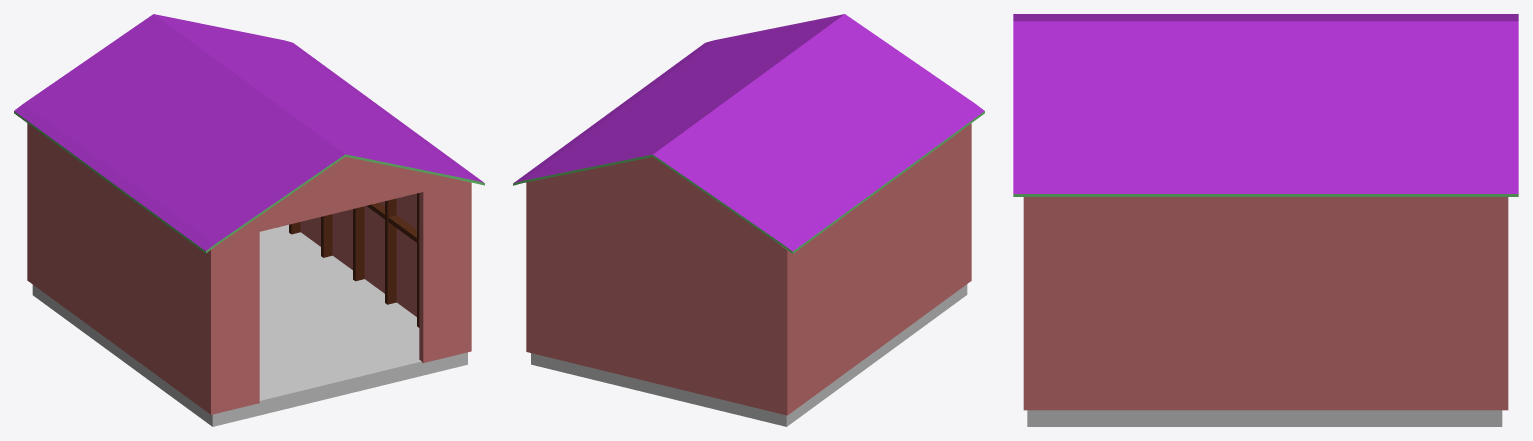
Rendered from shed.fbx.
The picture shows the model from 3 angles, left to right: view 1: azimuth 30°, elevation 25°; view 2: azimuth 150°, elevation 25°; view 3: azimuth 270°, elevation 25°; orthographic projection. The views are drawn at different scales.
Visible parts, largest first — view 1: Cube; view 2: Cube; view 3: Cube.
Part boxes in pixels (x1=…): Cube: x1=14, y1=14, x2=484, y2=426; Cube: x1=513, y1=14, x2=984, y2=426; Cube: x1=1013, y1=14, x2=1518, y2=426.
Size of the model in its own units: 307 by 258 by 365.
